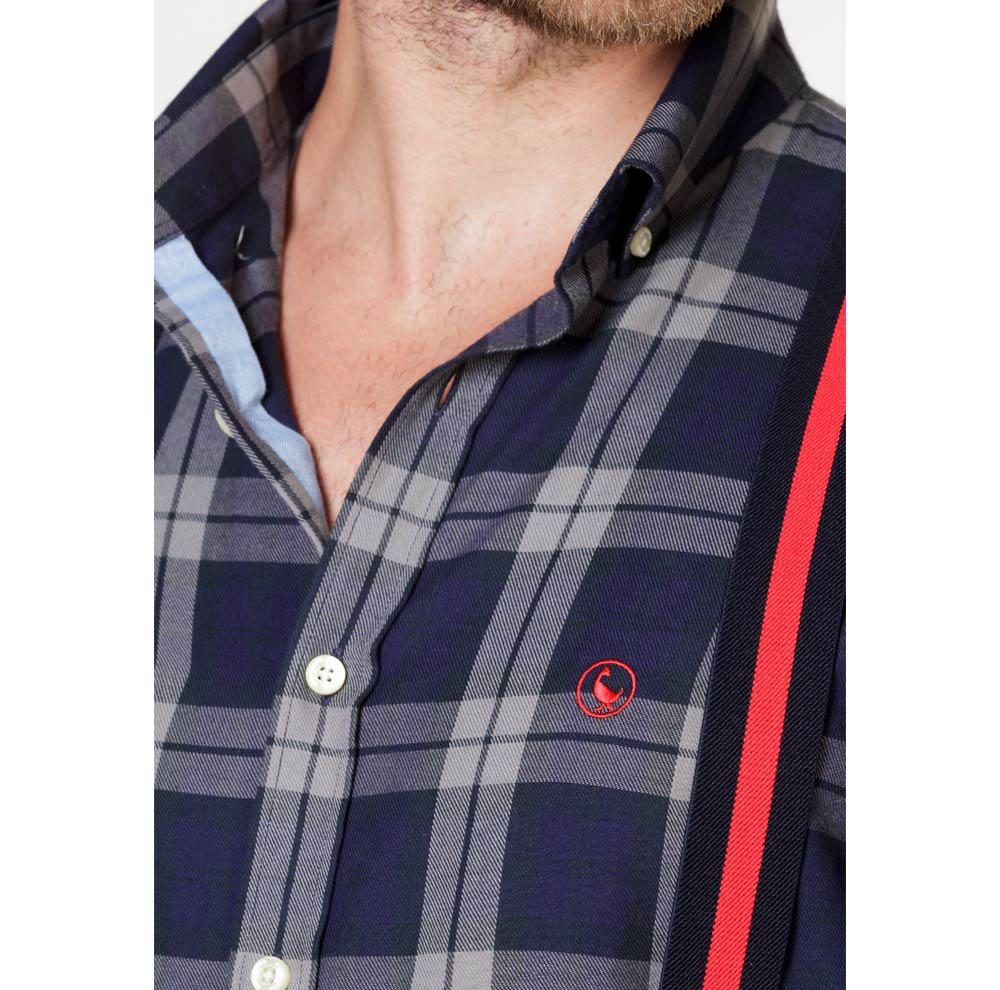teeshirt: (94, 98, 939, 990)
